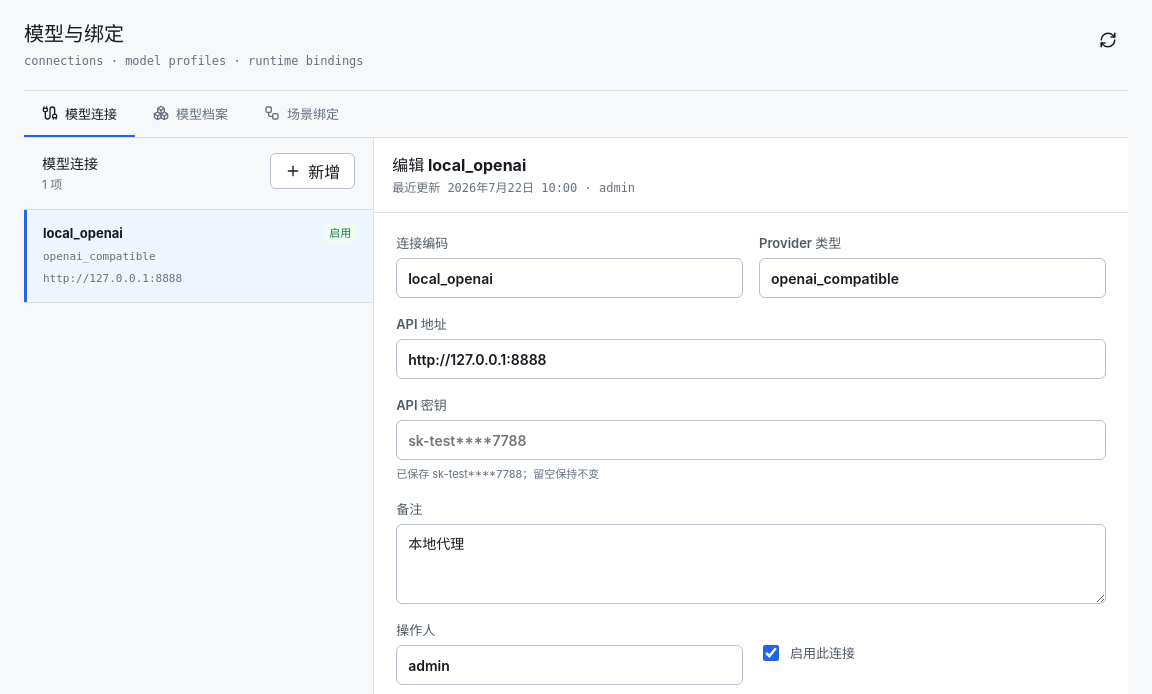
Test: model settings page › keeps edited fields after a failed save
This screenshot has width=1152, height=694.
Replace the text in the text box labelled "备注" with "保留这次编辑内容": point(751, 564) [396,524,1106,604]
(page scrolled)
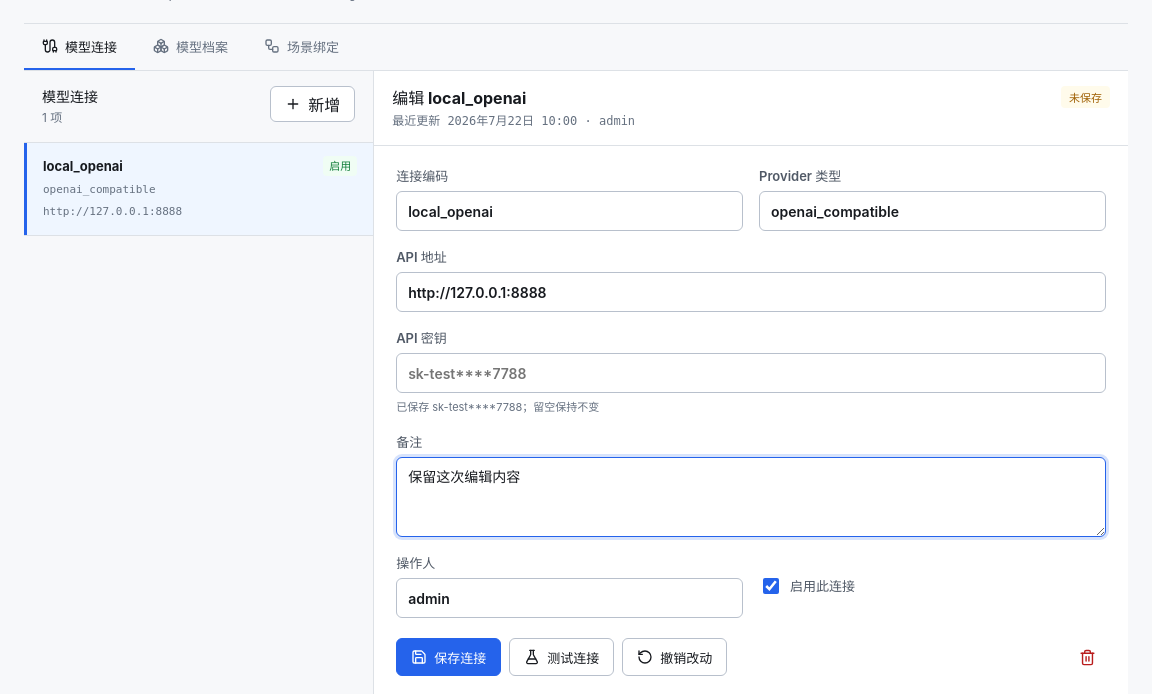
Click the button "保存连接": point(449, 657) [396,638,501,676]
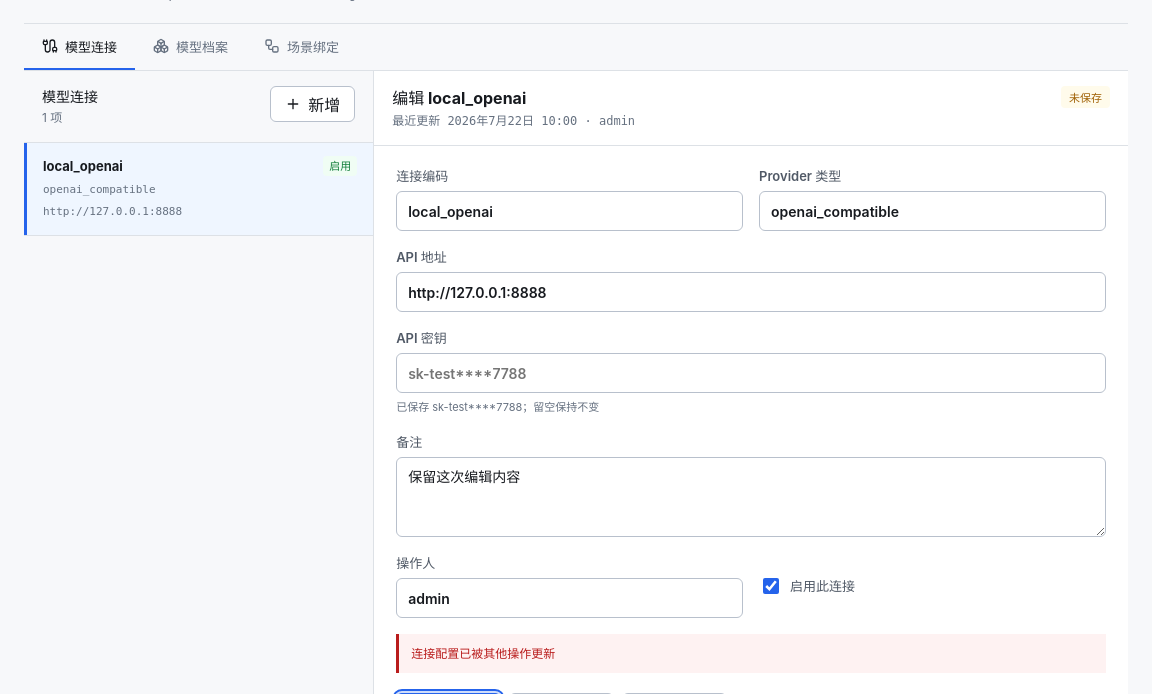
Now the message reads "连接配置已被其他操作更新", box [411,646,555,661]
